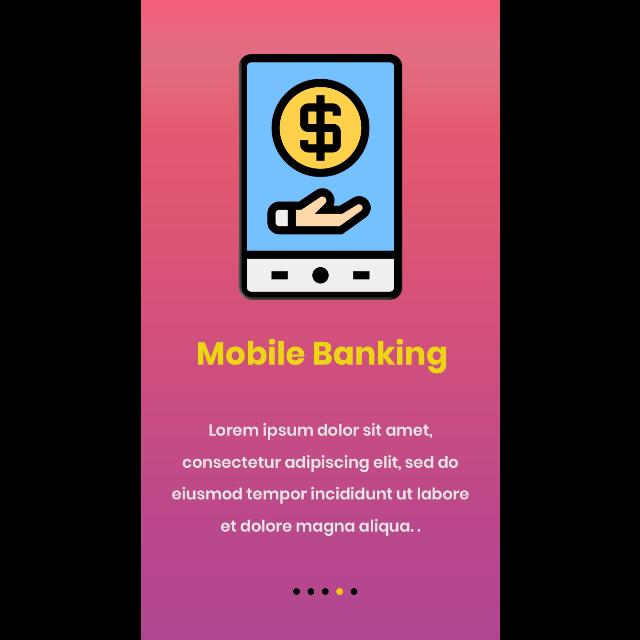image: (238, 55, 402, 301)
pageindicator: (292, 588, 358, 596)
text: (172, 423, 468, 537), (197, 338, 447, 374)
